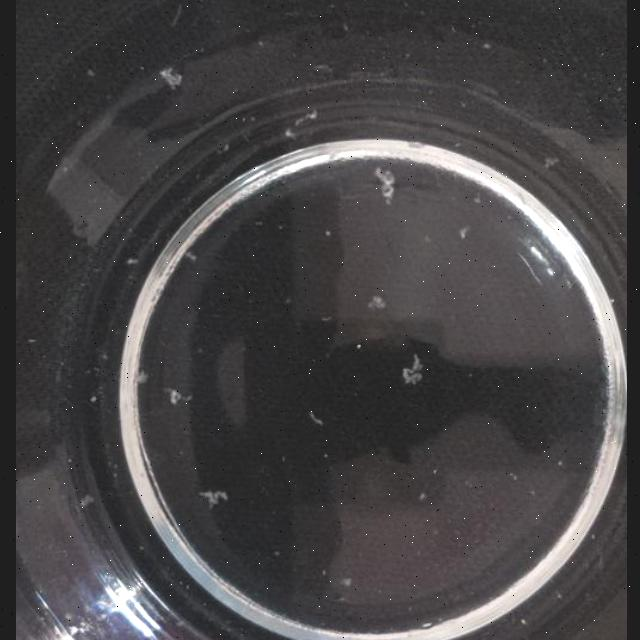Fibre: (370, 161, 396, 201), (400, 354, 422, 388), (197, 488, 226, 509), (157, 66, 180, 90), (290, 109, 314, 128), (166, 388, 190, 406), (365, 294, 385, 310), (77, 495, 93, 509), (306, 412, 322, 426), (134, 369, 146, 385)
microbeads: (182, 250, 195, 262), (458, 225, 468, 239), (338, 577, 350, 587), (470, 193, 480, 204), (416, 492, 426, 502), (507, 472, 517, 482), (282, 128, 292, 138), (422, 234, 431, 244), (85, 68, 94, 78), (88, 394, 96, 404), (124, 258, 136, 264), (321, 230, 329, 238), (517, 618, 525, 626), (479, 42, 488, 48), (556, 459, 562, 466)
